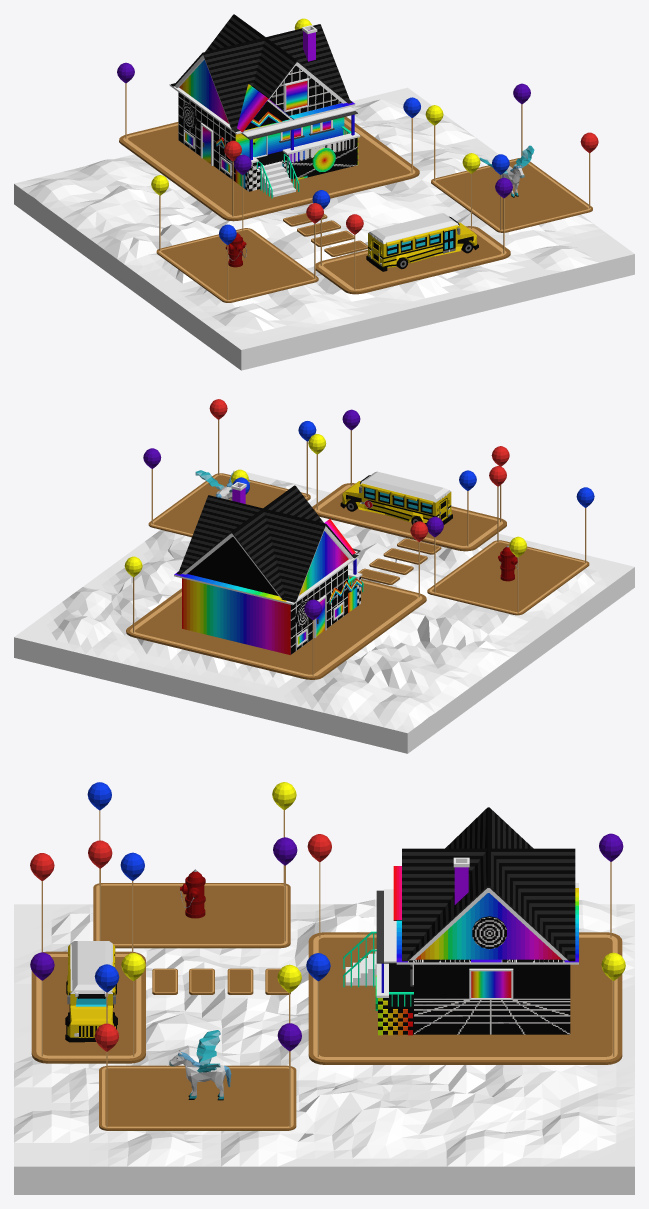
3 views of the same model, one above another, from view 1: azimuth 30°, elevation 25°; view 2: azimuth 150°, elevation 25°; view 3: azimuth 270°, elevation 25° (orthographic). The views are drawn at different scales.
Parts seen in each view (by area): view 1: Cube.013, Cube.1320, VEHICLES_SCHOOL_BUS, ANIMAL_PEGASO; view 2: Cube.013, Cube.1320, VEHICLES_SCHOOL_BUS, OBJRANDOM_FIRE_HYDRANT; view 3: Cube.013, Cube.1320, VEHICLES_SCHOOL_BUS, ANIMAL_PEGASO, OBJRANDOM_FIRE_HYDRANT.
Boxes of the visible parts, x1,y1,x2,y2 form: Cube.013: [14, 18, 634, 370]; Cube.1320: [169, 14, 360, 198]; VEHICLES_SCHOOL_BUS: [366, 213, 478, 271]; ANIMAL_PEGASO: [479, 145, 534, 197]; Cube.013: [14, 399, 634, 753]; Cube.1320: [174, 482, 363, 654]; VEHICLES_SCHOOL_BUS: [340, 471, 452, 524]; OBJRANDOM_FIRE_HYDRANT: [498, 545, 517, 581]; Cube.013: [14, 782, 634, 1194]; Cube.1320: [343, 807, 578, 1035]; VEHICLES_SCHOOL_BUS: [65, 941, 117, 1042]; ANIMAL_PEGASO: [169, 1030, 231, 1100]; OBJRANDOM_FIRE_HYDRANT: [180, 869, 205, 918].
Bounding box in the file's own units: 4000 × 1666 × 4000.
37 materials, 3 textured.
